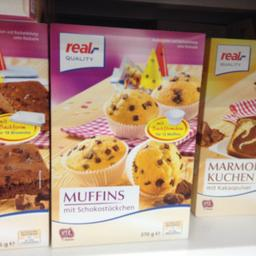cake: (48, 17, 206, 250), (194, 25, 255, 217)
